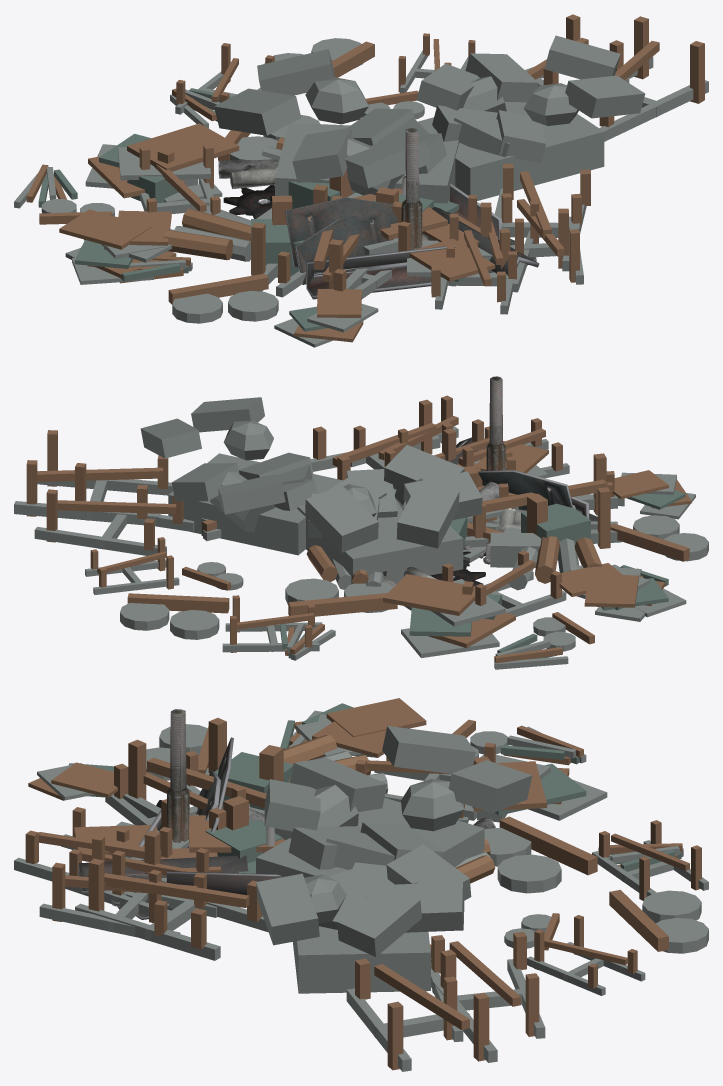
The model's file is scrap_medium.glb.
The picture shows the model from 3 angles, top to bottom: view 1: azimuth 30°, elevation 25°; view 2: azimuth 150°, elevation 25°; view 3: azimuth 270°, elevation 25°; orthographic projection. The views are drawn at different scales.
Parts seen in each view (by area): view 1: defaultMaterial.001; view 2: defaultMaterial.001; view 3: defaultMaterial.001.
Part boxes in pixels (box(x1,y1,x2,y2)): defaultMaterial.001: box(14, 14, 708, 347); defaultMaterial.001: box(14, 376, 708, 669); defaultMaterial.001: box(14, 698, 708, 1071).
Size of the model in its own units: 6.36 by 1.24 by 5.22.
7 materials, 1 textured.
